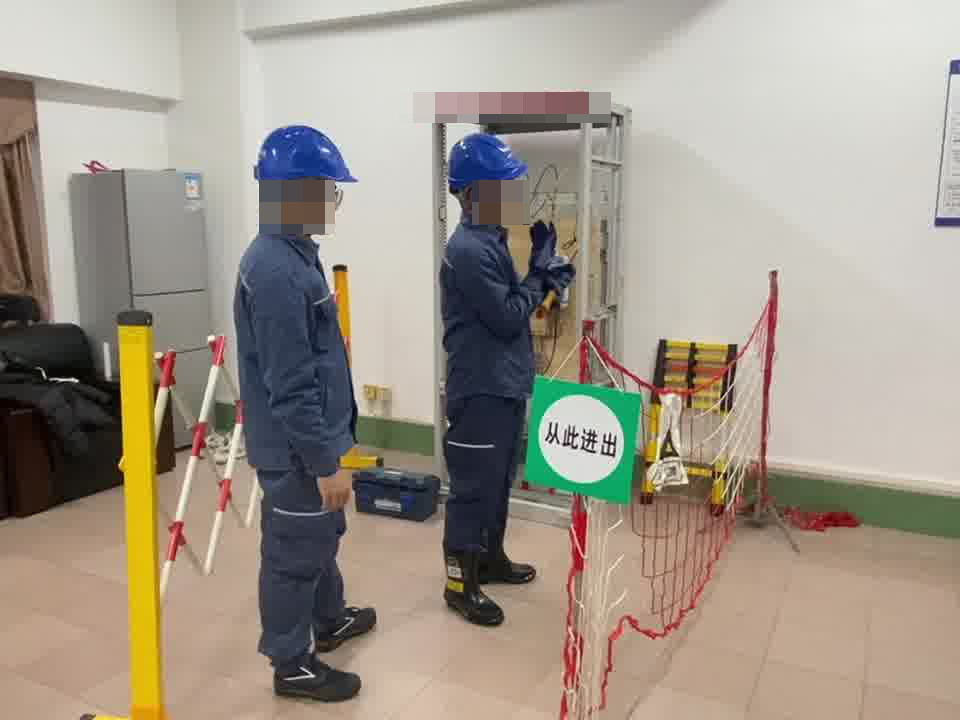downsuit: (253, 450, 351, 663), (441, 402, 526, 560)
glove: (525, 218, 558, 271)
halt: (253, 122, 358, 238), (446, 131, 530, 221)
hand: (315, 468, 355, 514)
inear: (287, 181, 320, 224)
intosign: (523, 376, 646, 495)
person: (227, 121, 379, 704), (433, 131, 576, 625)
shoe: (436, 544, 534, 625)
upsuit: (235, 230, 357, 462), (440, 216, 569, 396)
